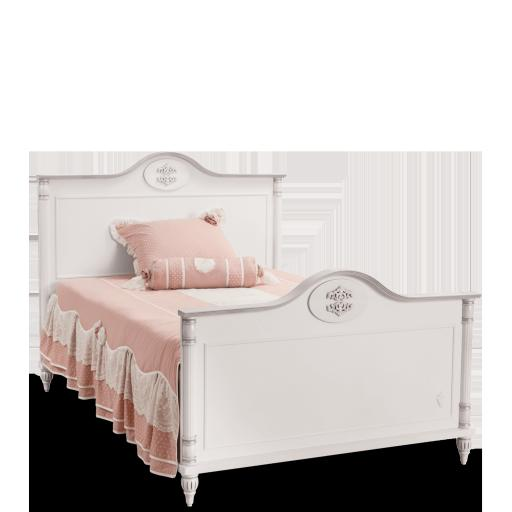bed: (36, 152, 480, 506)
